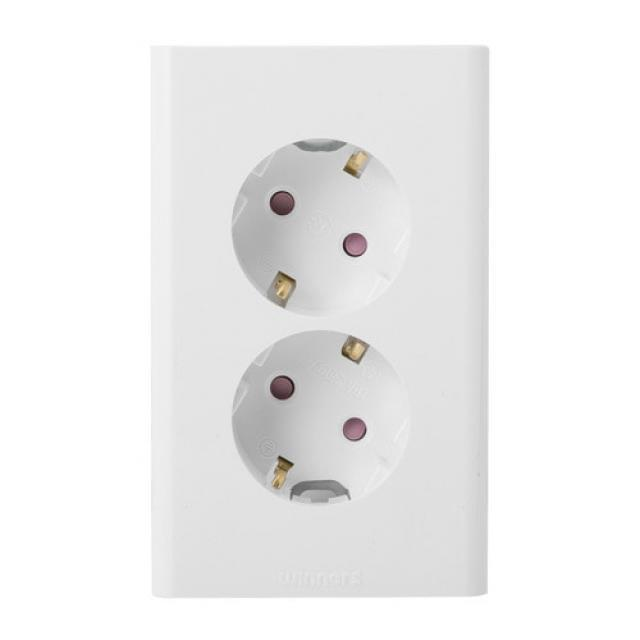typeb: (119, 22, 546, 617)
